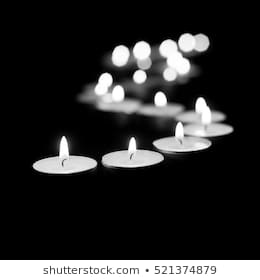Fire: (56, 132, 73, 162), (173, 119, 187, 144), (125, 134, 138, 158), (202, 104, 212, 127)
